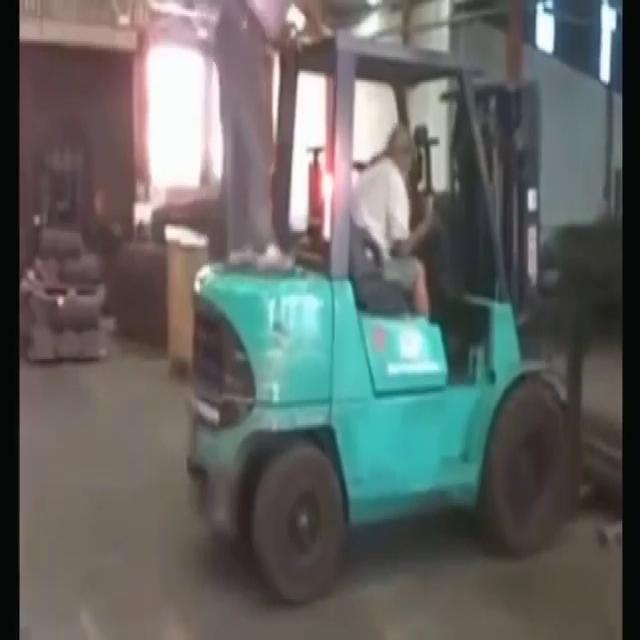Chariot elevateur: (185, 27, 582, 615)
